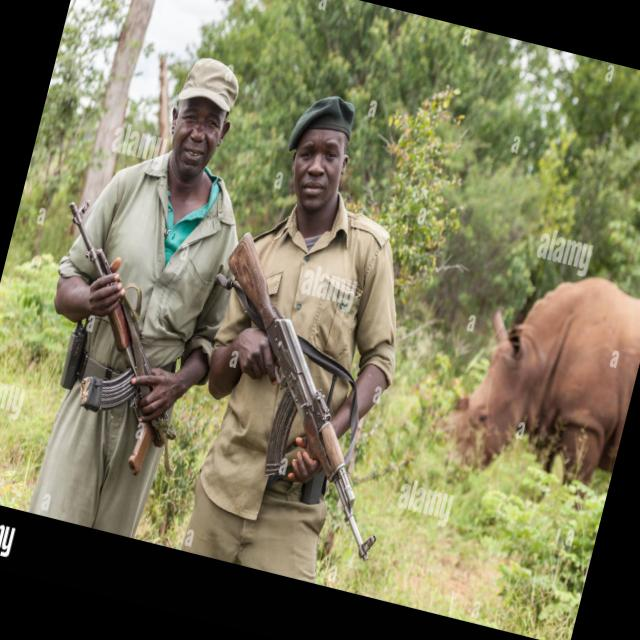ranger: (178, 24, 494, 575), (11, 0, 296, 549)
rhino: (429, 201, 640, 496)
weapon: (178, 243, 434, 564), (35, 212, 208, 466)
